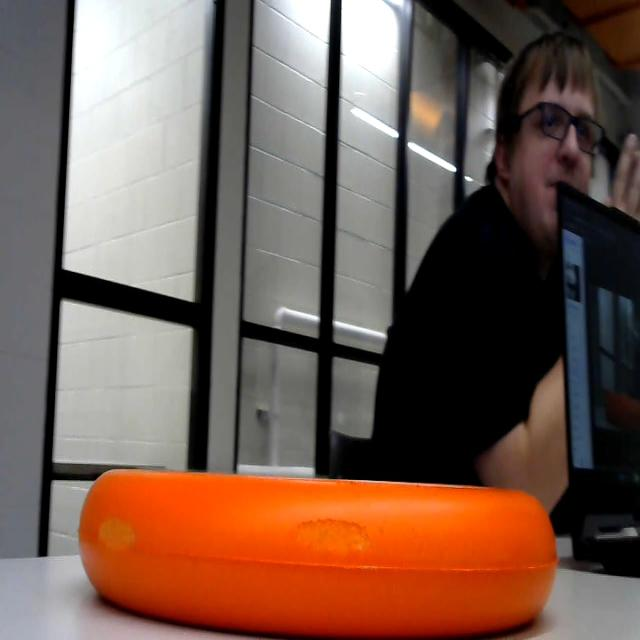note: (82, 445, 562, 640)
